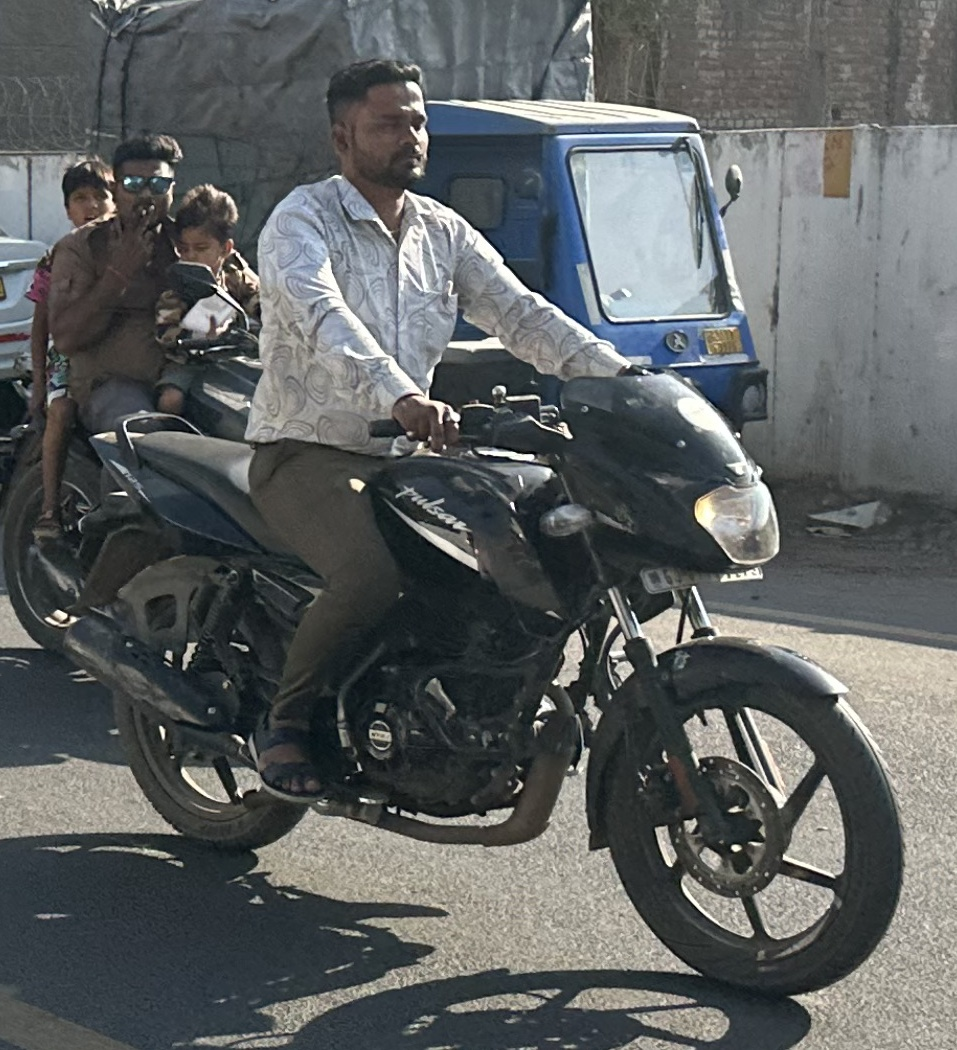BikeWithRider: (38, 47, 914, 1007), (0, 123, 278, 662)
NoHelmet: (314, 52, 444, 197), (105, 128, 189, 228), (165, 178, 245, 278), (55, 151, 123, 236)
